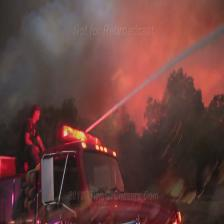nofire: (0, 101, 193, 224)
smoke: (0, 0, 118, 101), (98, 3, 224, 97)
